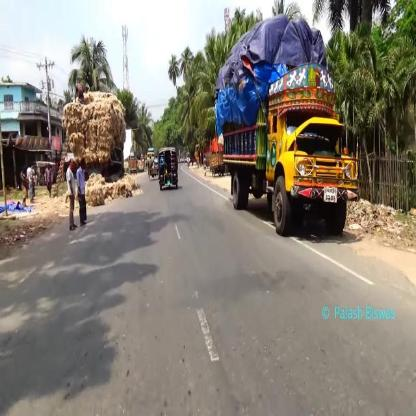truck: (214, 50, 356, 240)
